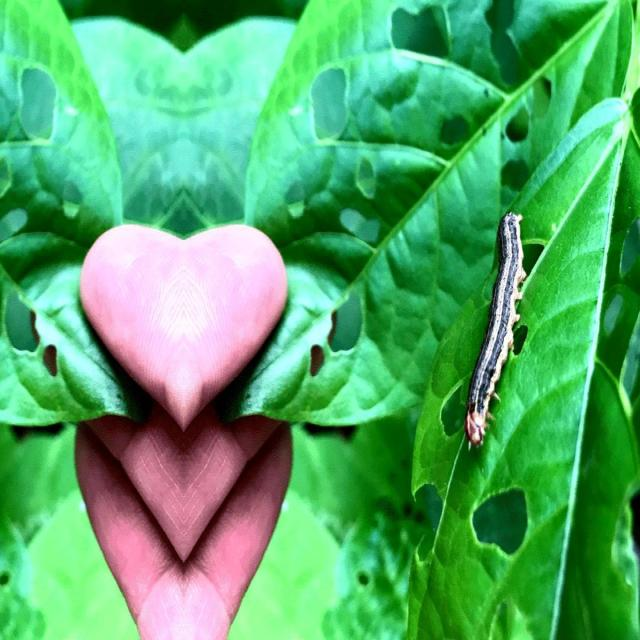Armyworm: (453, 191, 535, 450)
Armyworm_damage: (472, 485, 537, 574), (300, 67, 360, 156), (10, 55, 66, 150), (325, 192, 389, 265), (392, 4, 456, 76), (323, 287, 379, 360), (1, 279, 49, 360), (481, 3, 529, 83), (410, 474, 451, 566), (492, 151, 539, 210), (271, 180, 320, 229), (429, 115, 477, 162), (347, 153, 385, 209), (58, 172, 85, 243), (300, 341, 333, 397), (610, 218, 640, 279), (494, 107, 540, 140), (1, 201, 30, 250), (600, 298, 635, 337), (40, 337, 61, 396), (1, 148, 18, 200)
